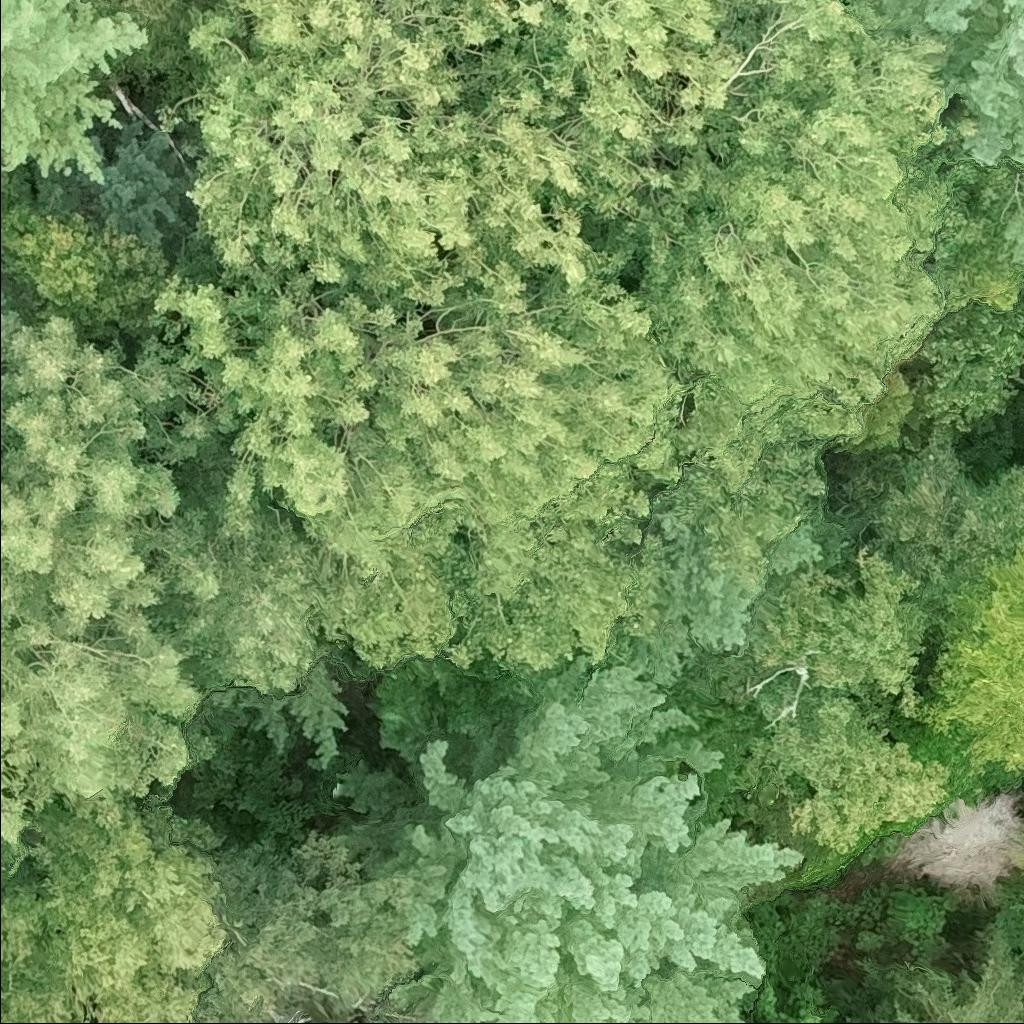crown: (139, 243, 696, 682), (603, 0, 1011, 578), (331, 654, 808, 1023), (161, 0, 605, 307), (0, 305, 234, 859), (513, 0, 770, 243), (0, 799, 237, 1023), (198, 824, 421, 1023), (157, 444, 327, 691), (719, 682, 953, 854), (874, 0, 1023, 270), (612, 514, 825, 696), (748, 543, 938, 720), (0, 162, 179, 344), (864, 423, 1023, 614), (0, 0, 153, 186), (914, 536, 1023, 778), (30, 117, 193, 273), (908, 294, 1023, 439), (202, 657, 351, 767), (853, 927, 1023, 1023), (888, 789, 1023, 894), (96, 0, 195, 71), (0, 885, 50, 978), (0, 273, 27, 320), (1021, 854, 1023, 876)
